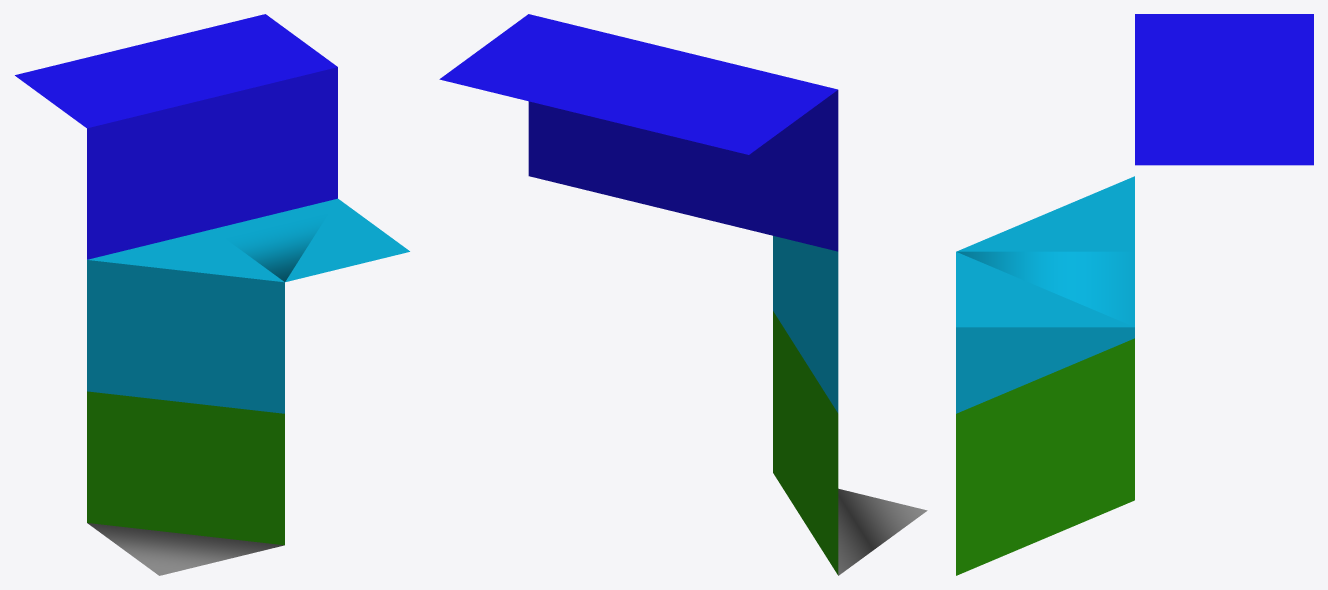
3 views of the same model, side by side, from view 1: azimuth 30°, elevation 25°; view 2: azimuth 150°, elevation 25°; view 3: azimuth 270°, elevation 25° (orthographic). The views are drawn at different scales.
Parts seen in each view (by area): view 1: T_3bb_0_0; view 2: T_3bb_0_0; view 3: T_3bb_0_0.
Part boxes in pixels (x1=…): T_3bb_0_0: x1=15, y1=14, x2=409, y2=575; T_3bb_0_0: x1=439, y1=14, x2=927, y2=575; T_3bb_0_0: x1=956, y1=14, x2=1313, y2=575.
Bounding box in the file's own units: 99.79 × 150 × 99.81.
